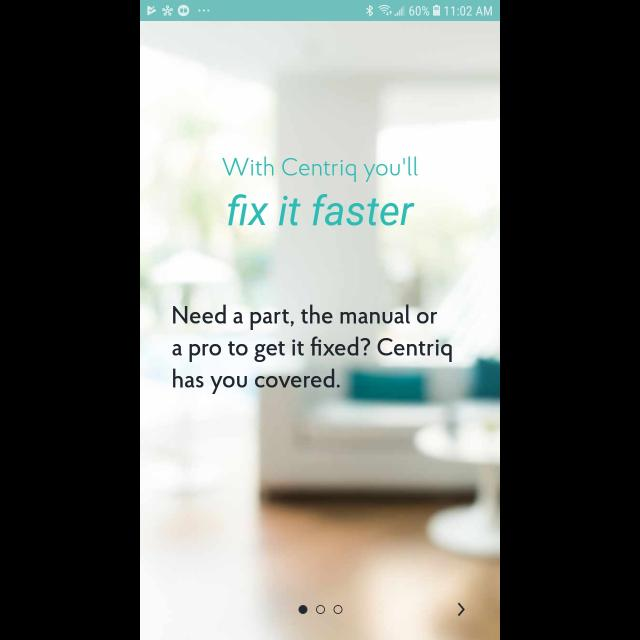backgroundimage: (140, 22, 500, 640)
icon: (457, 602, 465, 616)
pageindicator: (298, 605, 344, 615)
text: (172, 304, 452, 394), (228, 194, 416, 226), (222, 156, 418, 182)
uppertaskbar: (140, 1, 500, 22)
